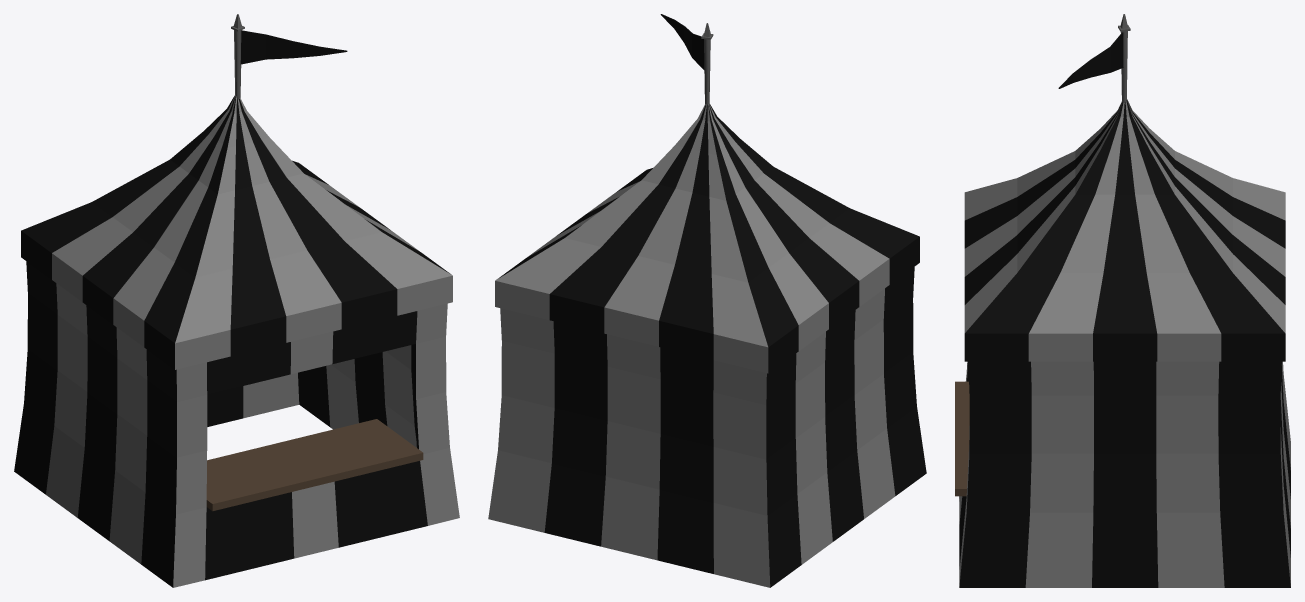
The model's file is SM_tent_generic.fbx.
3 views of the same model, side by side, from view 1: azimuth 30°, elevation 25°; view 2: azimuth 150°, elevation 25°; view 3: azimuth 270°, elevation 25° (orthographic). The views are drawn at different scales.
Visible parts, largest first — view 1: Object035; view 2: Object035; view 3: Object035.
Part boxes in pixels (x1,y1,x2,y2): Object035: (14, 14, 459, 587); Object035: (488, 14, 926, 587); Object035: (955, 14, 1290, 587).
Bounding box in the file's own units: 130 × 208 × 126.
